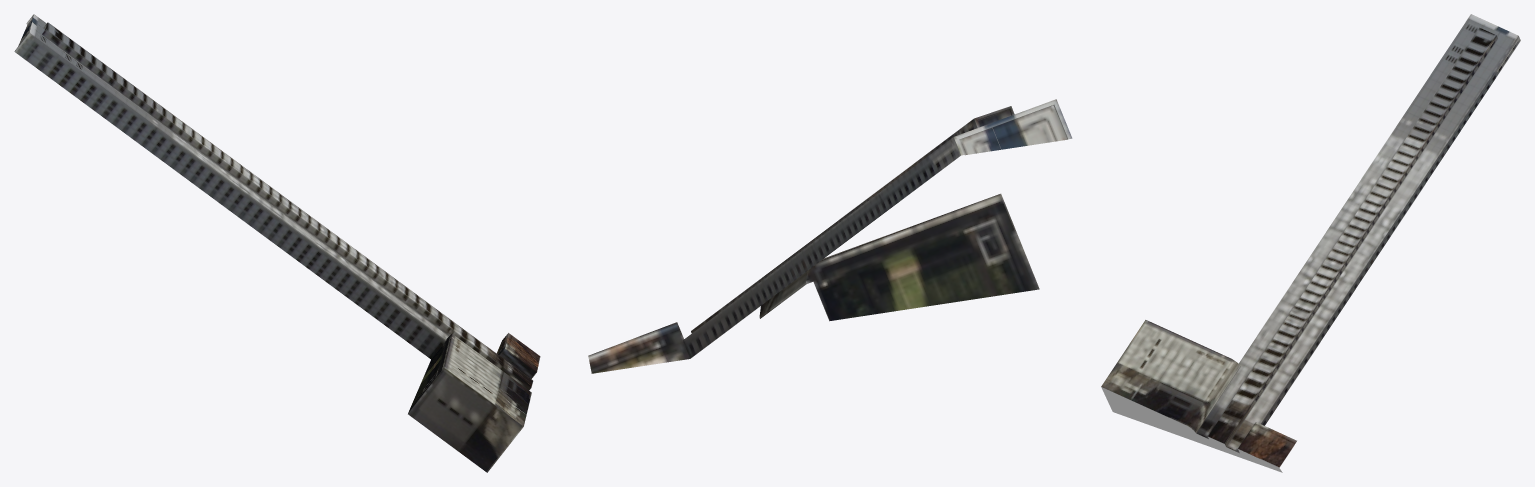
Rendered from 39546_bldg_Building.glb.
3 views of the same model, side by side, from view 1: azimuth 30°, elevation 25°; view 2: azimuth 150°, elevation 25°; view 3: azimuth 270°, elevation 25° (orthographic). The views are drawn at different scales.
Bounding box in the file's own units: 129 × 104 × 134.
Materials: 3 (2 with a texture image).
